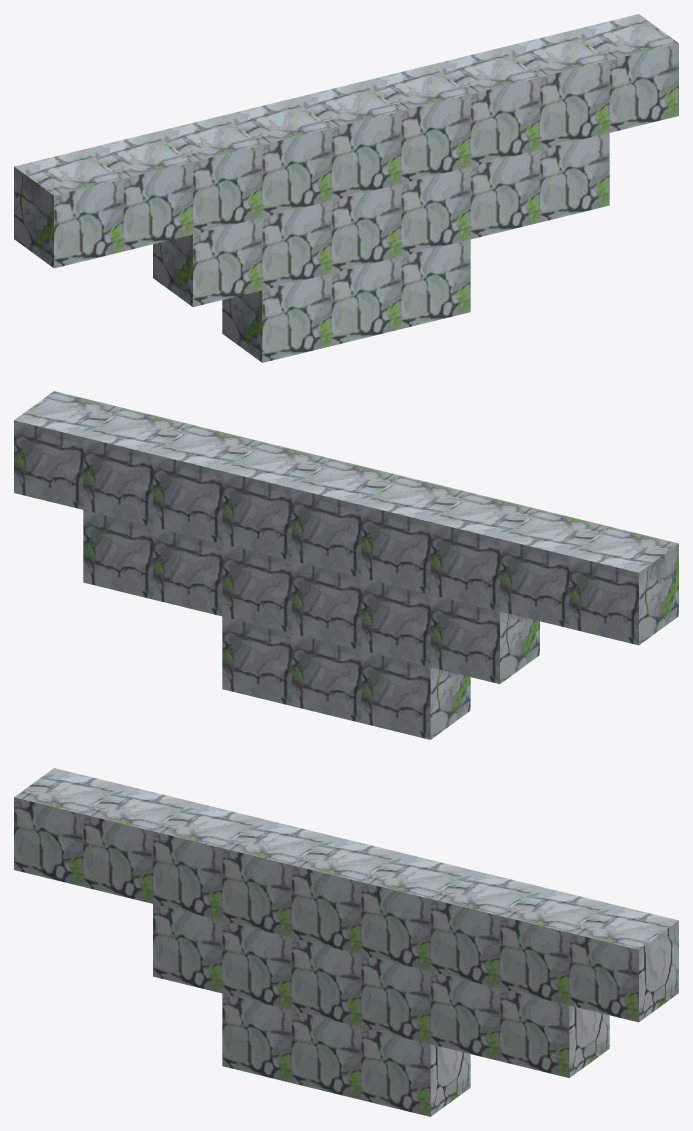
Rendered from BrickWall5.fbx.
The picture shows the model from 3 angles, top to bottom: view 1: azimuth 30°, elevation 25°; view 2: azimuth 150°, elevation 25°; view 3: azimuth 330°, elevation 25°; orthographic projection.
Parts seen in each view (by area): view 1: pCube125; view 2: pCube125; view 3: pCube125.
Boxes of the visible parts, box(x1,y1,x2,y2) form: pCube125: box(14, 14, 678, 362); pCube125: box(14, 391, 678, 739); pCube125: box(14, 768, 678, 1116).
Size of the model in its own units: 3600 by 1200 by 400.
